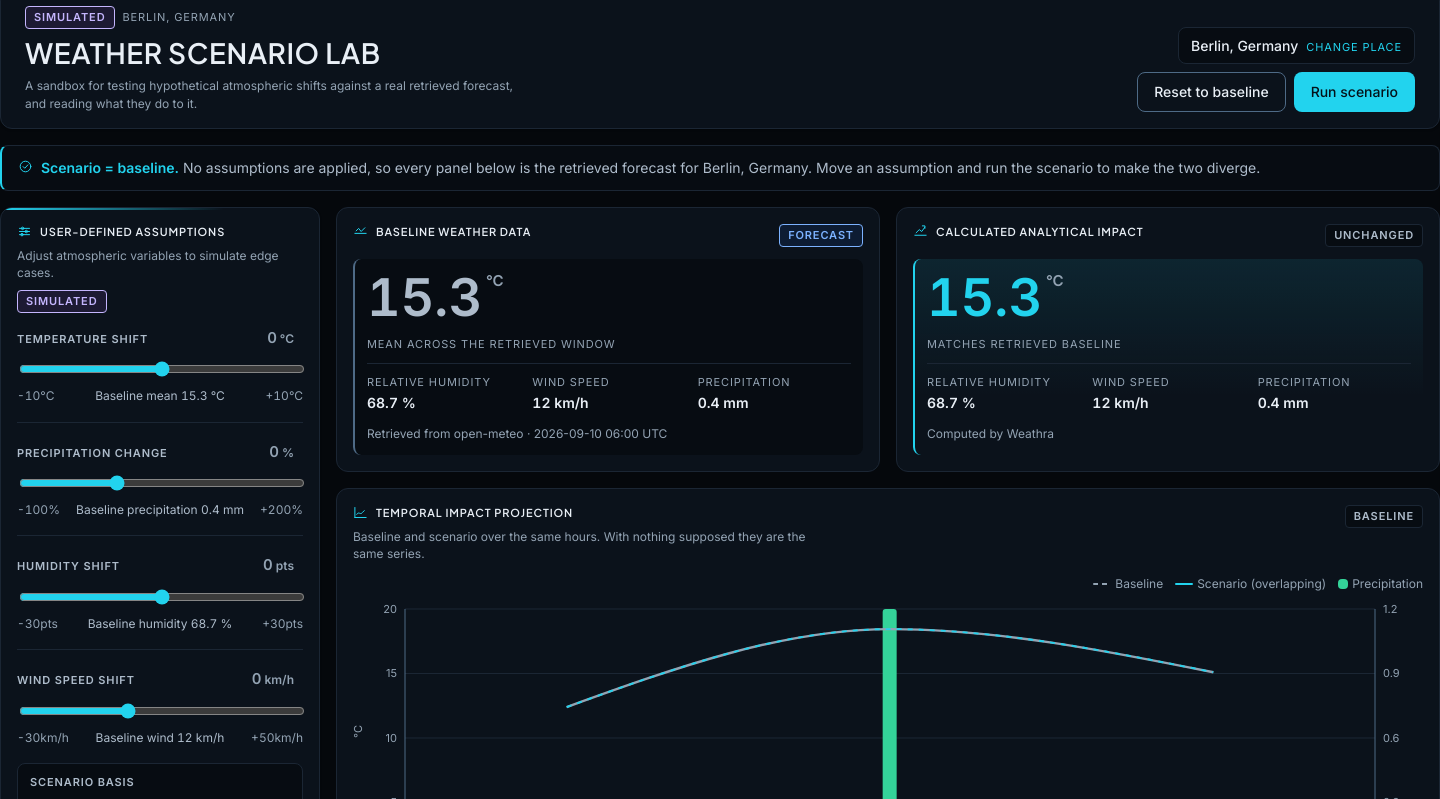
it: a real scenario, and the reset that undoes it › moves every panel off the baseline when four assumptions are run
Expected: the heading "Temporal impact projection" is shown, left=353, top=505, right=573, bottom=520
Replace the text in the number field named "Temperature shift, exact value" with "2.5" at x=252, y=338, box left=227, top=328, right=277, bottom=348
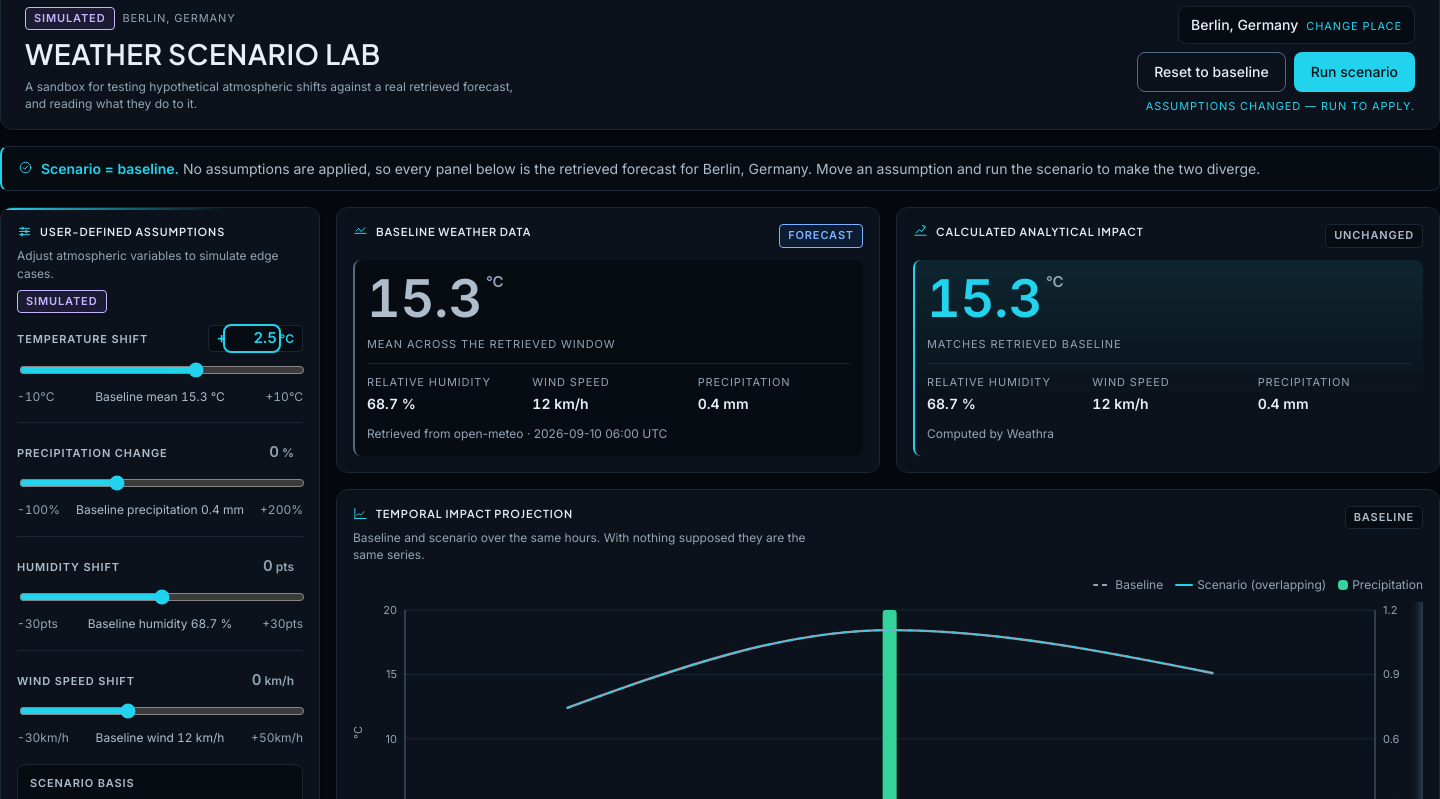
Replace the text in the number field named "Precipitation change, exact value" with "15" at x=254, y=452, box left=230, top=442, right=279, bottom=462
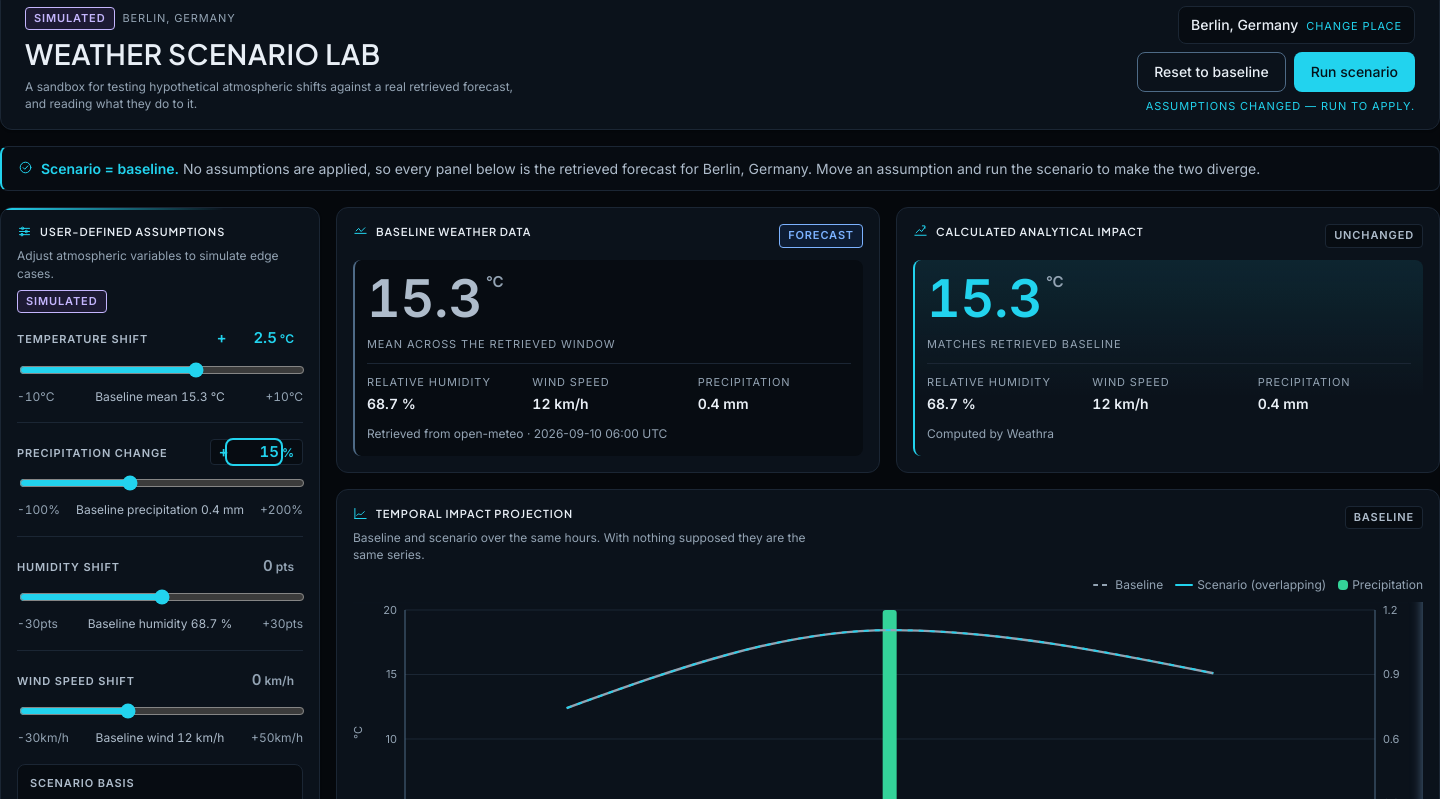
Replace the text in the number field named "Humidity shift, exact value" with "5" at x=248, y=566, box left=223, top=556, right=273, bottom=576
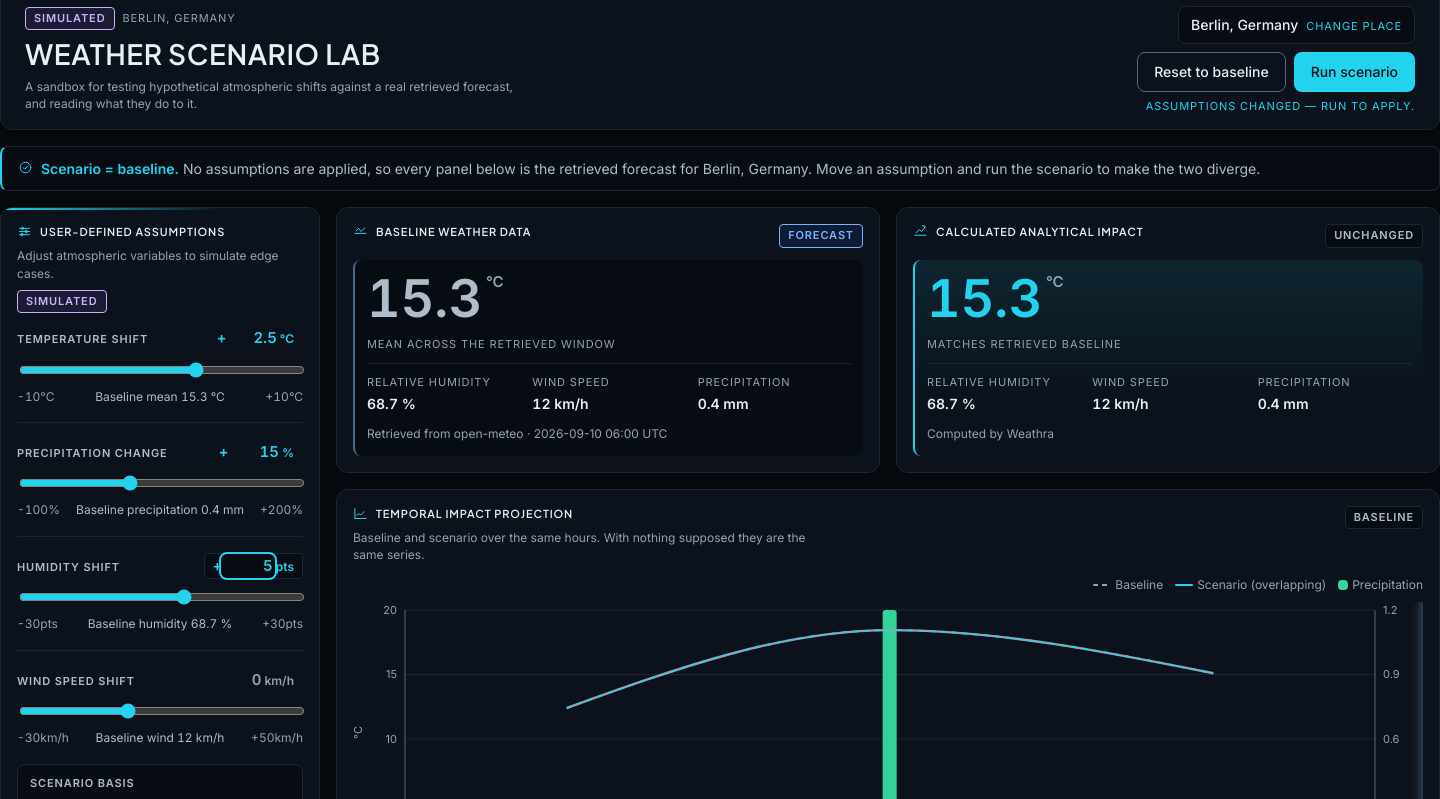
Replace the text in the number field named "Wind speed shift, exact value" with "10" at x=237, y=680, box left=212, top=670, right=262, bottom=690
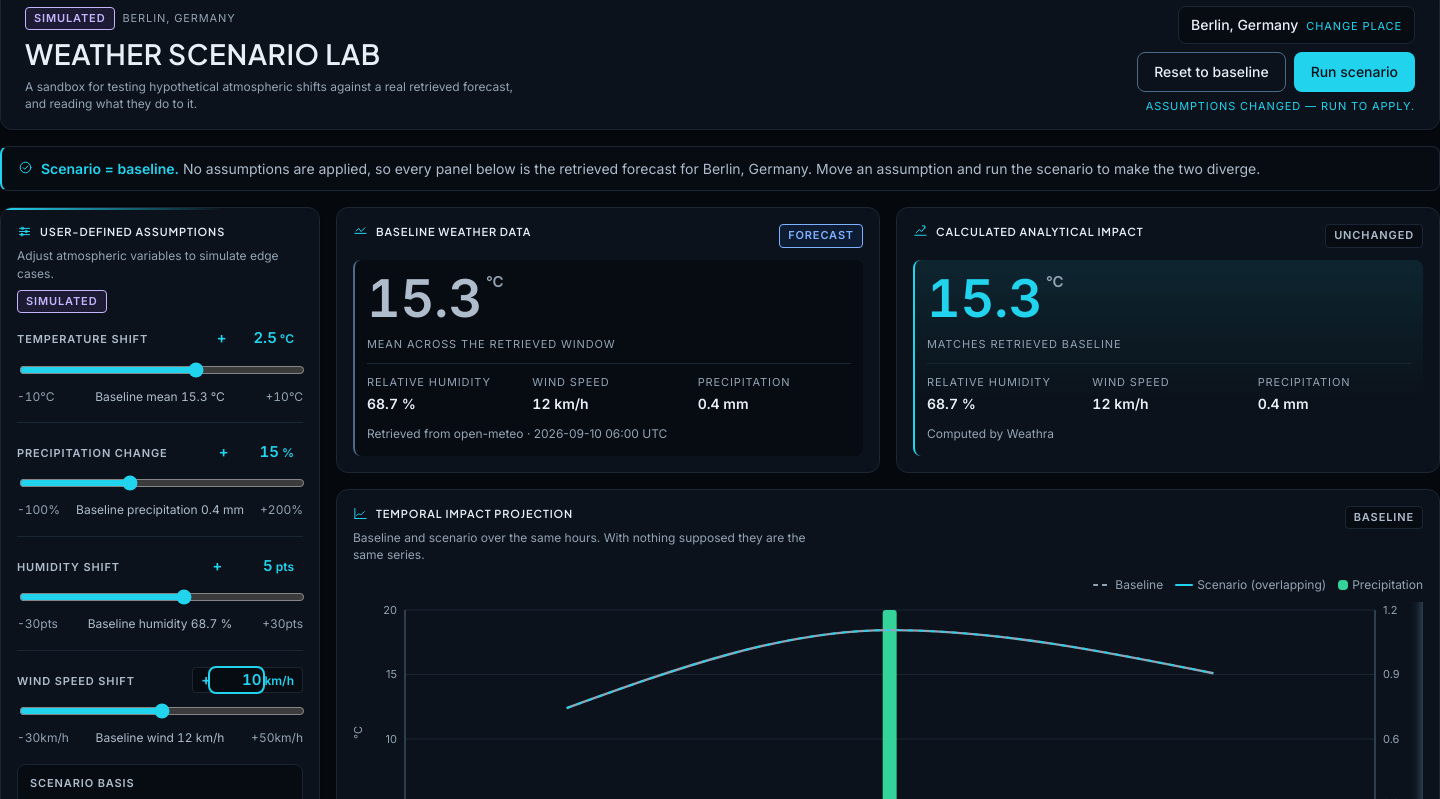
Click the button "Run scenario" at x=1354, y=72, box left=1294, top=52, right=1415, bottom=92
(page scrolled)
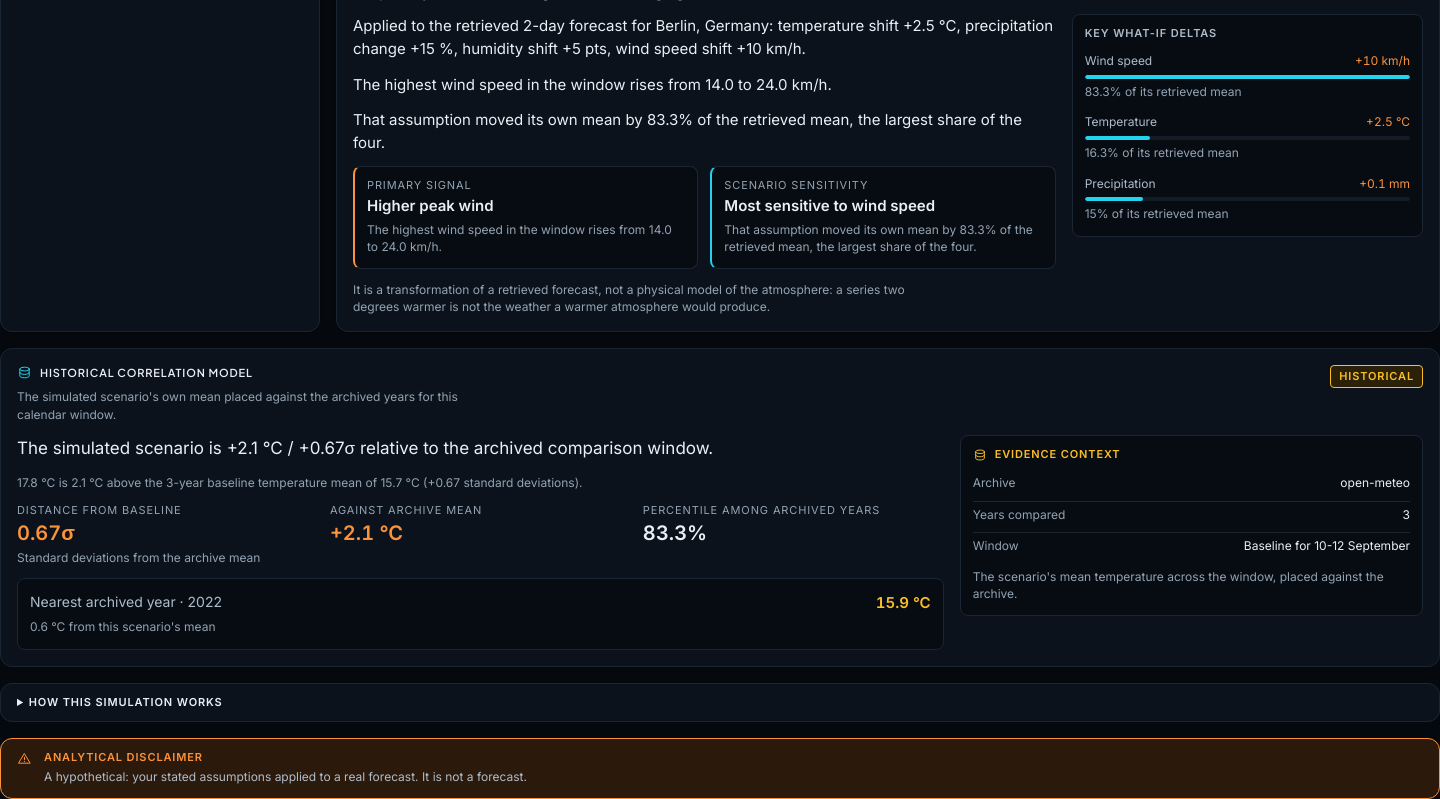
Expected: the text "Unchanged" is gone
Expected: the text "Scenario = baseline" is gone
Expected: the text "No assumptions are applied" is gone
